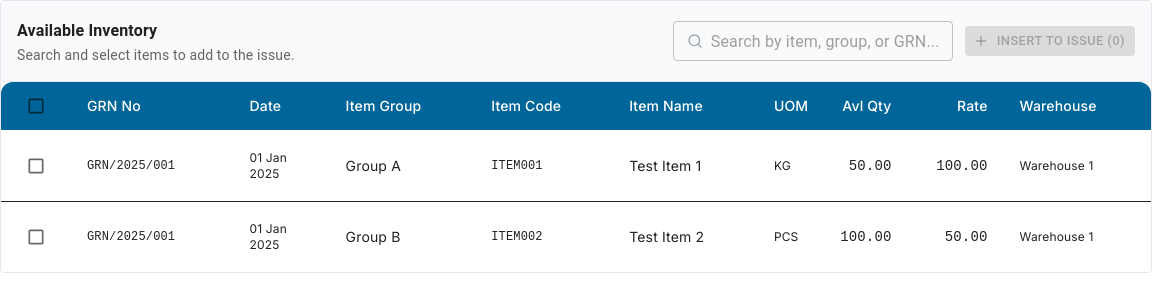
InventorySearchTable › Selection › should deselect all when header checkbox clicked again
Expected: the text "Test Item 1" is shown, [613,130,758,201]
# Click header checkbox to select all (same pattern as passing test)
Click the checkbox next to "GRN No": (36, 106) [26,96,46,116]
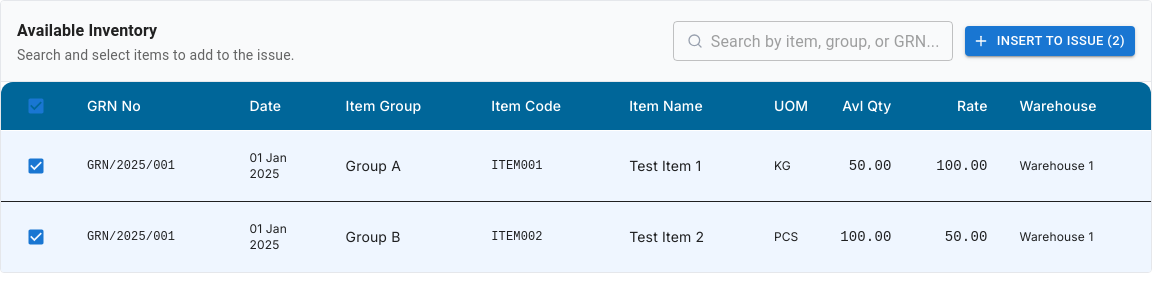
Expected: the button "Insert to Issue (2)" is shown, [965,26,1135,56]
# Click header checkbox again to deselect all
Click the checkbox next to "GRN No": (36, 106) [26,96,46,116]
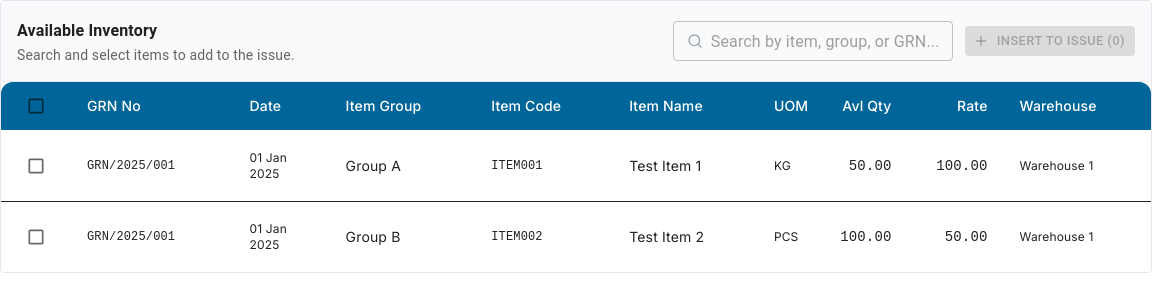
Expected: the button "Insert to Issue (0)" is shown, [965,26,1135,56]
